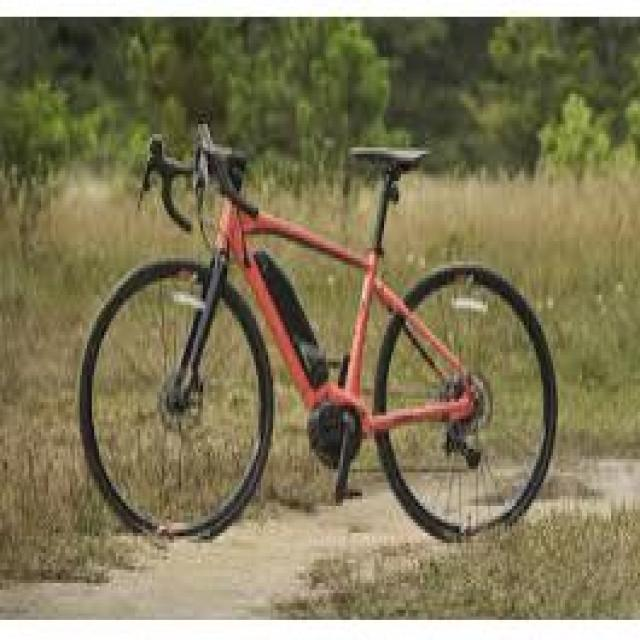bicycle: (86, 122, 540, 544)
